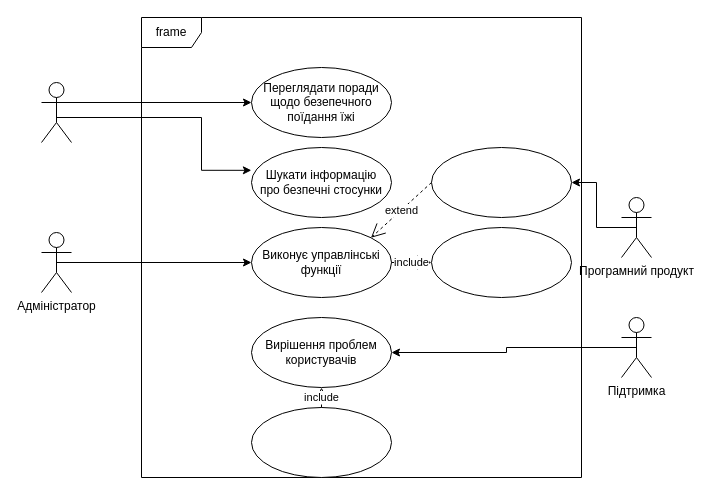
Image size: 711x495. Some labels were removed from this diagram. The shapes that lost their labels are listed below. From the top down, each one's centre as x and y in pixels, then its label:
[56,112]: Споживач
[501,182]: Обробка запистів користувача
[501,262]: Керування системою
[321,442]: Допомога користувачам
